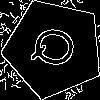Q: (29, 23, 87, 73)
